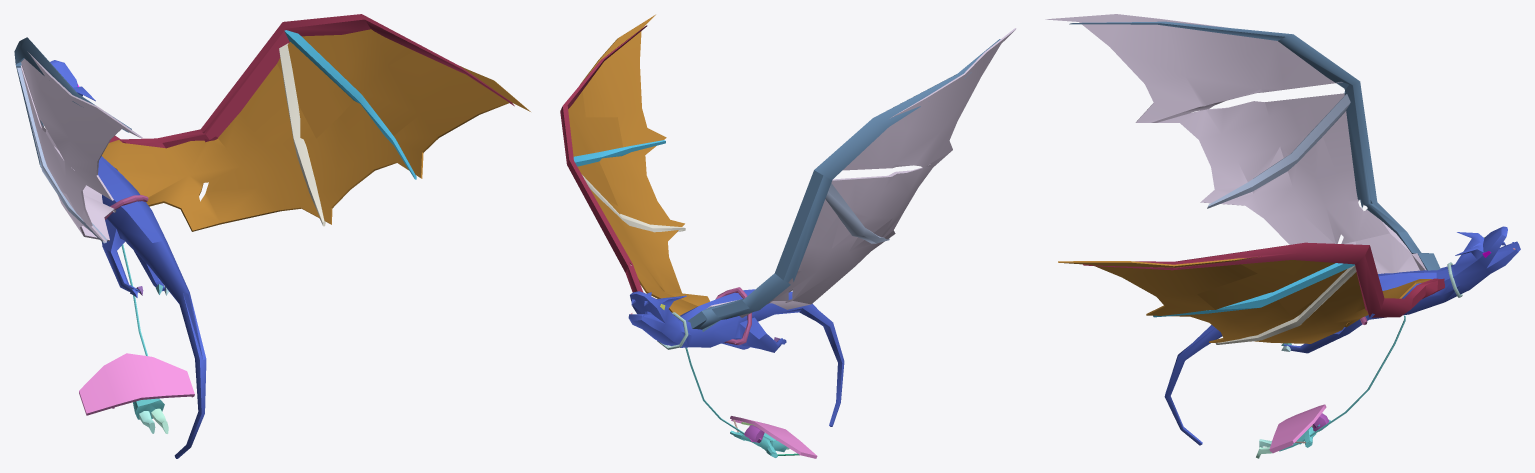
3 views of the same model, side by side, from view 1: azimuth 30°, elevation 25°; view 2: azimuth 150°, elevation 25°; view 3: azimuth 270°, elevation 25° (orthographic). The views are drawn at different scales.
Parts seen in each view (by area): view 1: split_parent_9, split_parent_1, split_parent_18, split_parent_10, split_parent_4, split_parent_12, split_parent_13, split_parent_14, dragon1_MAT_dragon_wings_PINK_D_0.008, split_parent_3; view 2: split_parent_1, split_parent_9, split_parent_14, split_parent_18, split_parent_10, dragon1_MAT_dragon_wings_PINK_D_0.008, split_parent_4, split_parent_3, split_parent_13, split_parent_12; view 3: split_parent_1, split_parent_9, split_parent_18, split_parent_14, split_parent_10, dragon1_MAT_dragon_wings_PINK_D_0.008, split_parent_13, split_parent_12, split_parent_4, split_parent_3.
Boxes of the visible parts, left/top/right/bottom form: split_parent_9: left=102, top=29, right=530, bottom=231; split_parent_1: left=20, top=51, right=142, bottom=241; split_parent_18: left=50, top=60, right=206, bottom=458; split_parent_10: left=109, top=14, right=514, bottom=148; split_parent_4: left=79, top=353, right=194, bottom=415; split_parent_12: left=279, top=43, right=325, bottom=226; split_parent_13: left=284, top=30, right=416, bottom=179; split_parent_14: left=14, top=37, right=131, bottom=167; dragon1_MAT_dragon_wings_PINK_D_0.008: left=17, top=67, right=107, bottom=243; split_parent_3: left=121, top=244, right=164, bottom=419; split_parent_1: left=707, top=28, right=1016, bottom=317; split_parent_9: left=568, top=14, right=709, bottom=315; split_parent_14: left=687, top=39, right=1000, bottom=331; split_parent_18: left=628, top=289, right=844, bottom=426; split_parent_10: left=560, top=25, right=655, bottom=298; dragon1_MAT_dragon_wings_PINK_D_0.008: left=825, top=183, right=889, bottom=243; split_parent_4: left=730, top=416, right=817, bottom=458; split_parent_3: left=685, top=347, right=787, bottom=457; split_parent_13: left=573, top=140, right=665, bottom=166; split_parent_12: left=582, top=175, right=685, bottom=232; split_parent_1: left=1045, top=14, right=1426, bottom=273; split_parent_9: left=1058, top=256, right=1431, bottom=343; split_parent_18: left=1164, top=226, right=1520, bottom=445; split_parent_14: left=1069, top=21, right=1440, bottom=270; split_parent_10: left=1083, top=242, right=1444, bottom=317; dragon1_MAT_dragon_wings_PINK_D_0.008: left=1207, top=94, right=1350, bottom=208; split_parent_13: left=1153, top=263, right=1354, bottom=317; split_parent_12: left=1215, top=265, right=1356, bottom=344; split_parent_4: left=1269, top=404, right=1326, bottom=453; split_parent_3: left=1279, top=315, right=1405, bottom=451.
Size of the model in its own units: 0.8904 by 0.8809 by 1.
